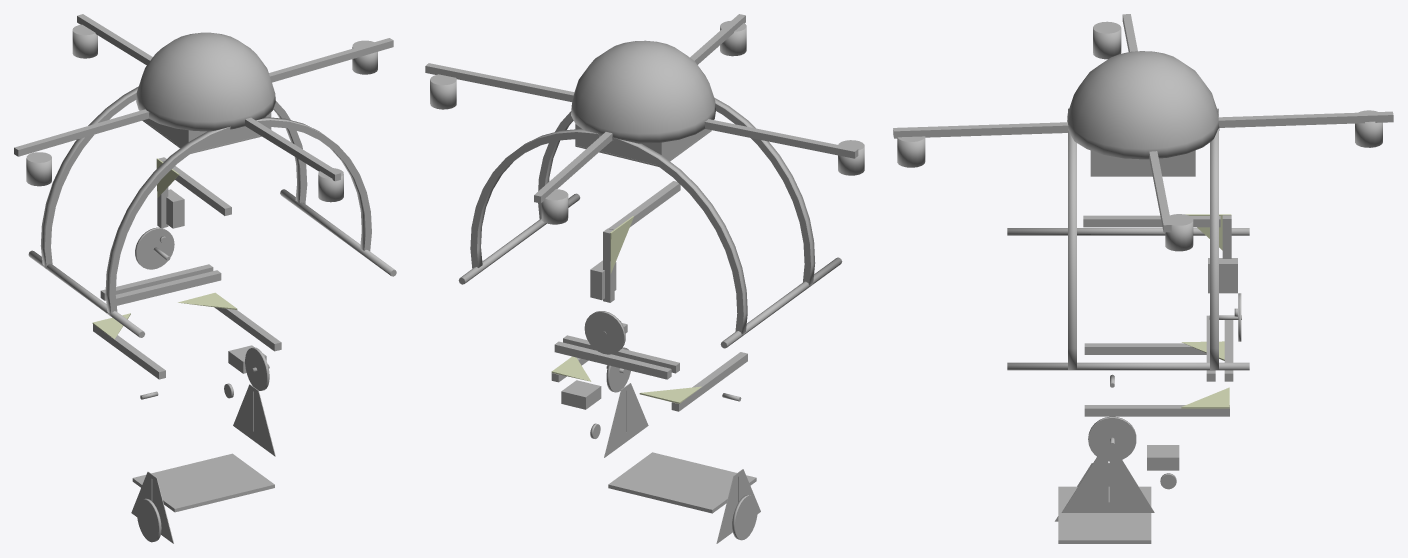
Rendered from QuadXL-noCamera8.dae.
3 views of the same model, side by side, from view 1: azimuth 30°, elevation 25°; view 2: azimuth 150°, elevation 25°; view 3: azimuth 270°, elevation 25° (orthographic). The views are drawn at different scales.
Parts seen in each view (by area): view 1: Quadro_Bulle, Quadro_TrainAvant, Box007, Quadro_TrainArriere, Quadro_BrasLateral, Box008, Box003, Cylinder002, Quadro_brasLongitudinalAvant, Quadro_BlocBatterie, Quadro_TrainGche, Quadro_TrainDte (+14 smaller); view 2: Quadro_Bulle, Quadro_TrainArriere, Box007, Quadro_BrasLateral, Quadro_TrainAvant, Box008, Box004, Cylinder002, Quadro_BlocBatterie, Quadro_brasLongitudinalArriere, Quadro_TrainDte, Box010 (+15 smaller); view 3: Quadro_Bulle, Box007, Box008, Quadro_TrainArriere, Quadro_TrainAvant, Quadro_TrainGche, Quadro_brasLongitudinalArriere, Quadro_brasLongitudinalAvant, Quadro_BlocBatterie, Cylinder005, Box005, Quadro_TrainDte (+10 smaller).
Boxes of the visible parts, x1,y1,x2,y2 form: Quadro_Bulle: [136, 32, 275, 131]; Quadro_TrainAvant: [105, 117, 371, 316]; Box007: [132, 453, 274, 512]; Quadro_TrainArriere: [40, 86, 307, 268]; Quadro_BrasLateral: [14, 38, 393, 156]; Box008: [233, 384, 275, 456]; Box003: [115, 270, 221, 305]; Cylinder002: [135, 227, 174, 269]; Quadro_brasLongitudinalAvant: [245, 117, 340, 181]; Quadro_BlocBatterie: [144, 112, 271, 151]; Quadro_TrainGche: [280, 189, 396, 276]; Quadro_TrainDte: [28, 250, 144, 337]; Quadro_Bulle: [571, 40, 715, 143]; Quadro_TrainArriere: [470, 129, 747, 336]; Box007: [608, 452, 756, 513]; Quadro_BrasLateral: [425, 63, 858, 158]; Quadro_TrainAvant: [538, 97, 815, 286]; Box008: [604, 383, 648, 457]; Box004: [554, 341, 671, 379]; Cylinder002: [584, 311, 625, 354]; Quadro_BlocBatterie: [575, 124, 710, 164]; Quadro_brasLongitudinalArriere: [534, 132, 612, 203]; Quadro_TrainDte: [720, 257, 842, 348]; Box010: [716, 469, 760, 543]; Quadro_Bulle: [1067, 51, 1219, 159]; Box007: [1058, 486, 1151, 543]; Box008: [1061, 457, 1154, 512]; Quadro_TrainArriere: [1210, 108, 1218, 369]; Quadro_TrainAvant: [1068, 108, 1076, 369]; Quadro_TrainGche: [1007, 362, 1249, 370]; Quadro_brasLongitudinalArriere: [1218, 111, 1393, 127]; Quadro_brasLongitudinalAvant: [893, 122, 1068, 138]; Quadro_BlocBatterie: [1090, 150, 1195, 175]; Cylinder005: [1088, 416, 1136, 461]; Box005: [1084, 405, 1229, 416]; Quadro_TrainDte: [1007, 228, 1249, 235].
Bounding box in the file's own units: 0.6188 × 0.6189 × 0.7017.
